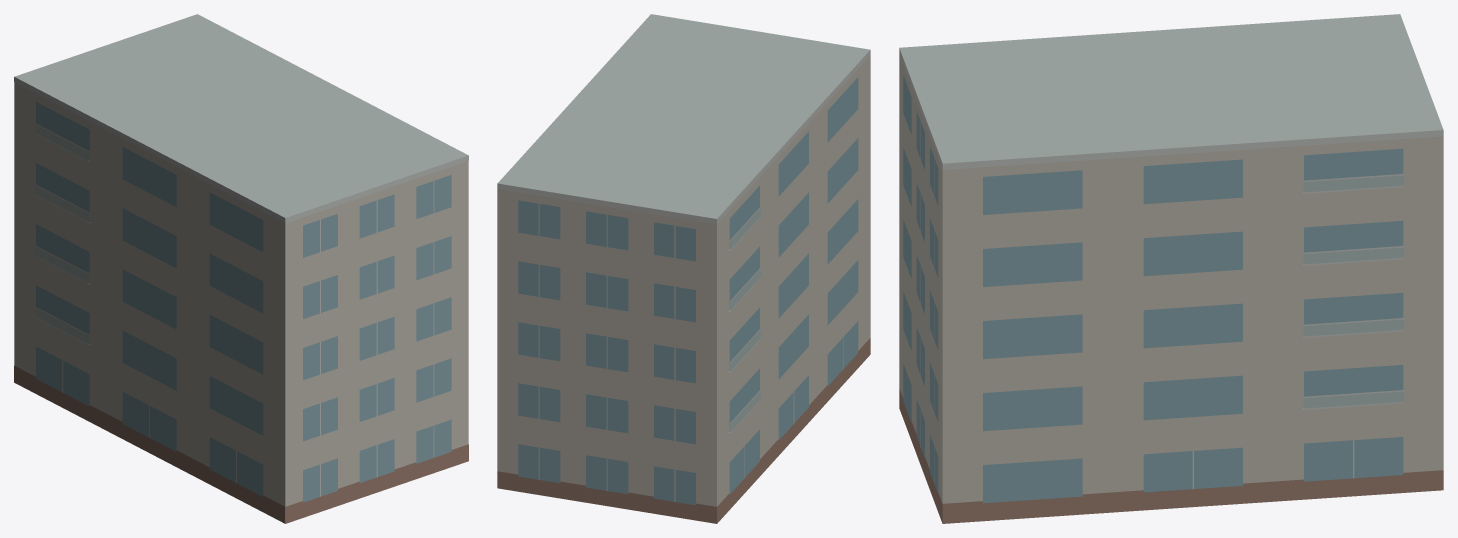
File: survey-upis-32767539.glb
The picture shows the model from 3 angles, left to right: view 1: azimuth 30°, elevation 25°; view 2: azimuth 150°, elevation 25°; view 3: azimuth 270°, elevation 25°; orthographic projection. The views are drawn at different scales.
Visible parts, largest first — view 1: survey-upis-32767539.tmp; view 2: survey-upis-32767539.tmp; view 3: survey-upis-32767539.tmp.
Boxes of the visible parts, box(x1,y1,x2,y2) form: survey-upis-32767539.tmp: box(14, 14, 468, 523); survey-upis-32767539.tmp: box(497, 14, 870, 523); survey-upis-32767539.tmp: box(899, 14, 1443, 523).
Size of the model in its own units: 12.39 by 13.9 by 19.05.
